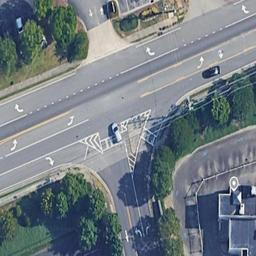Car: (110, 120, 122, 143), (200, 65, 222, 77)
Chevron: (124, 107, 153, 173), (81, 131, 101, 149)
Crosswalk: (142, 125, 158, 147), (99, 137, 125, 146)
Double Solid Yellow Line: (136, 28, 255, 83), (139, 45, 256, 97), (1, 107, 76, 141), (122, 190, 137, 256)
Left Turn Arrow: (8, 137, 18, 152), (195, 55, 204, 69), (65, 116, 75, 126), (135, 225, 143, 237)
Right Turn Arrow: (142, 47, 157, 55), (13, 104, 26, 113), (240, 4, 249, 13), (145, 221, 150, 236), (45, 158, 55, 165)
Solid White Line: (1, 116, 89, 159), (1, 139, 81, 174), (119, 47, 177, 74), (130, 175, 144, 233), (224, 12, 256, 27)
Stright Arrow: (123, 228, 129, 246)
White Dashed Line: (26, 74, 119, 114), (182, 29, 222, 47)
